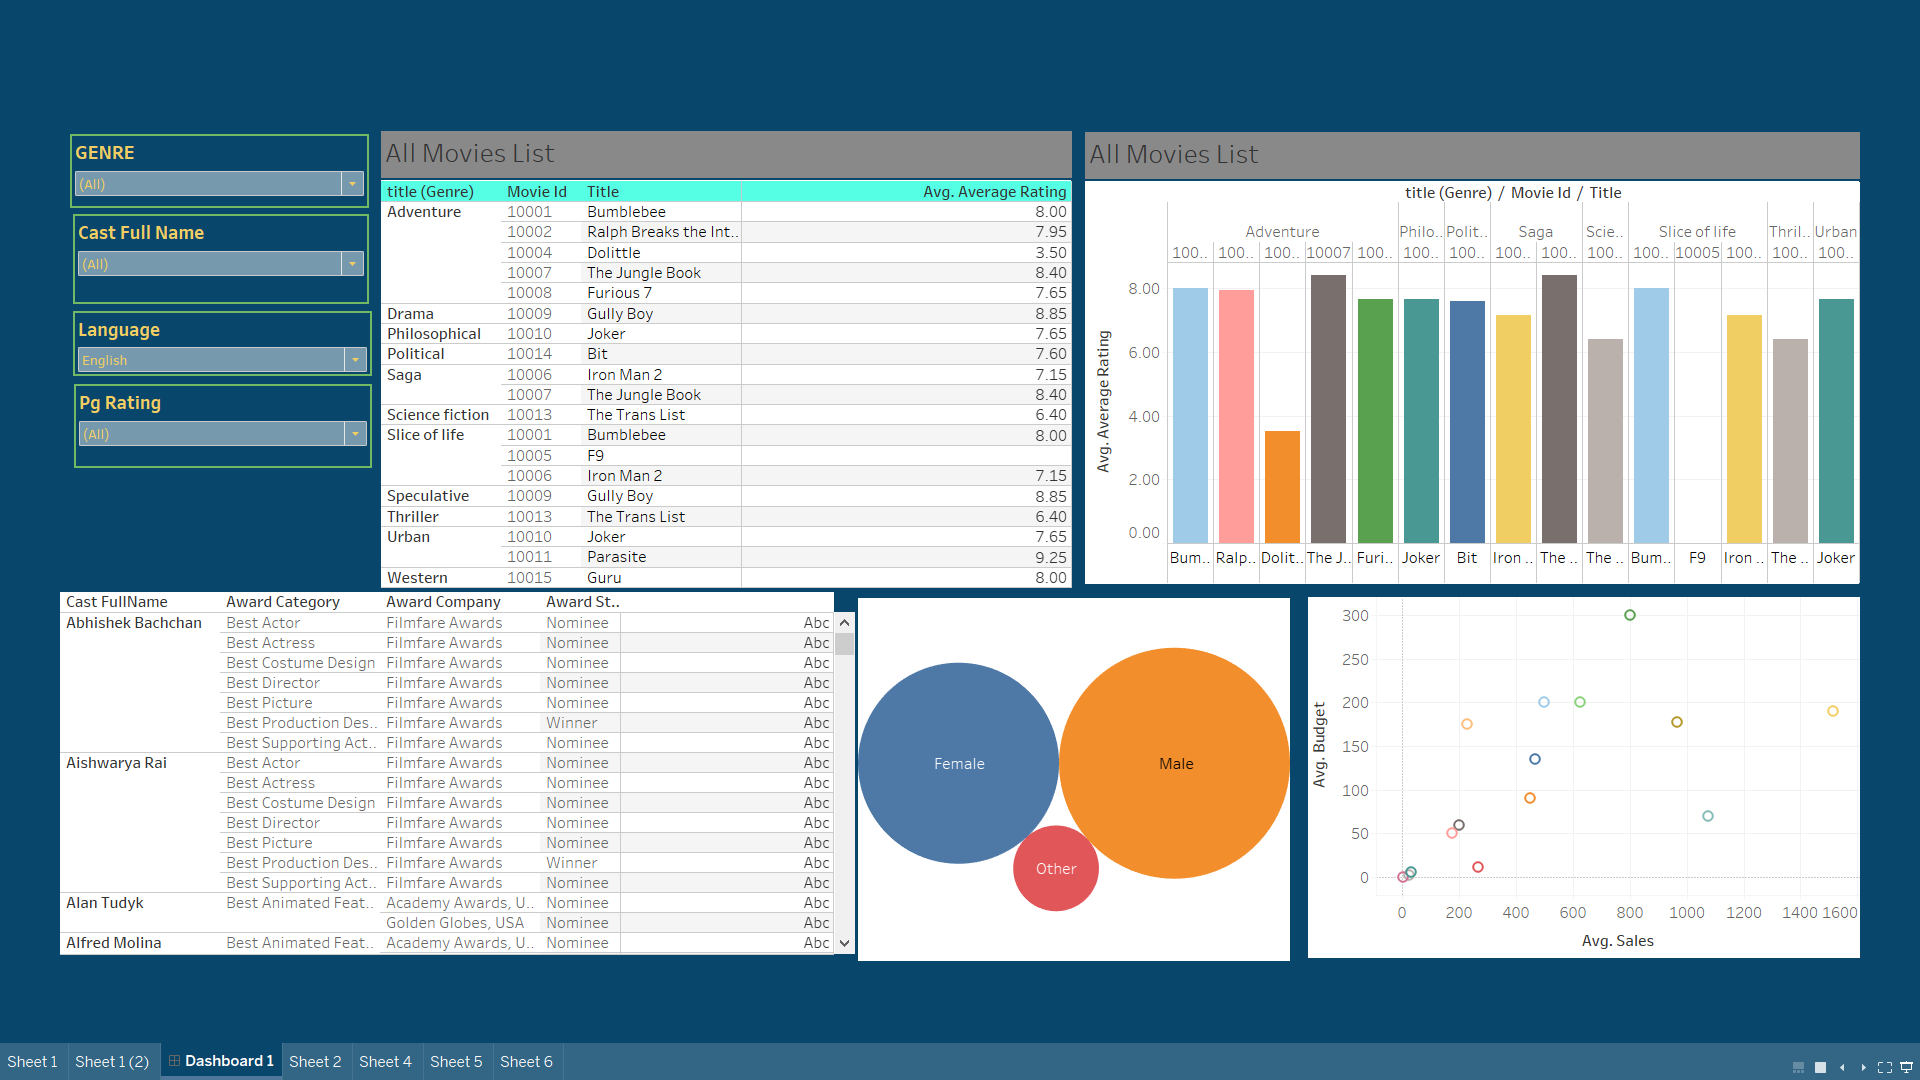

This screenshot's page, from the dashboard's own definition file:
{"tool":"tableau","page":{"name":"Dashboard 1","canvas":[1800,800],"ordinal":0},"visuals":[{"type":"worksheet","title":"Sheet 1 (2)","mark":"Automatic","rows":["title (Genre)","movie_id","title"],"box":[321,10,691,457]},{"type":"worksheet","title":"Sheet 1","mark":"Automatic","rows":["average_rating"],"cols":["title (Genre)","movie_id","title"],"box":[1025,11,775,452]},{"type":"filter","title":"Sheet 1","param":"[federated.0qv6xzv1bimay014d0t3n0gs1x7e].[none:title (Genre):nk]","box":[10,13,299,74]},{"type":"filter","title":"Sheet 1","param":"[federated.0qv6xzv1bimay014d0t3n0gs1x7e].[none:Calculation_1737263593350025219:n","box":[13,93,296,90]},{"type":"filter","title":"Sheet 1","param":"[federated.0qv6xzv1bimay014d0t3n0gs1x7e].[none:language:nk]","box":[13,190,299,65]},{"type":"filter","title":"Sheet 1","param":"[federated.0qv6xzv1bimay014d0t3n0gs1x7e].[none:pg_rating:nk]","box":[14,263,298,84]}]}

Visuals, with their boxes in screenshot pixels (x1, y1, x2, y2):
"Sheet 1 (2)" worksheet: {"x1": 361, "y1": 125, "x2": 1062, "y2": 589}
"Sheet 1" worksheet: {"x1": 1075, "y1": 126, "x2": 1861, "y2": 585}
"Sheet 1" filter: {"x1": 45, "y1": 128, "x2": 349, "y2": 203}
"Sheet 1" filter: {"x1": 48, "y1": 209, "x2": 349, "y2": 301}
"Sheet 1" filter: {"x1": 48, "y1": 308, "x2": 352, "y2": 374}
"Sheet 1" filter: {"x1": 49, "y1": 382, "x2": 352, "y2": 467}
